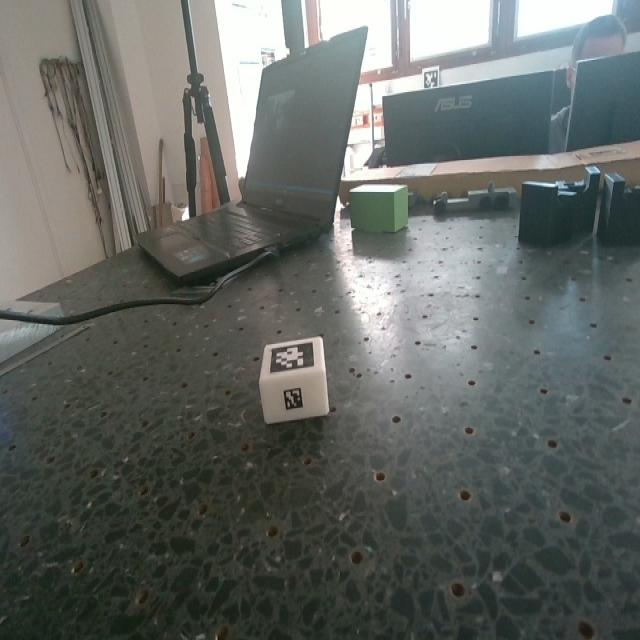Cube: (257, 332, 328, 421)
